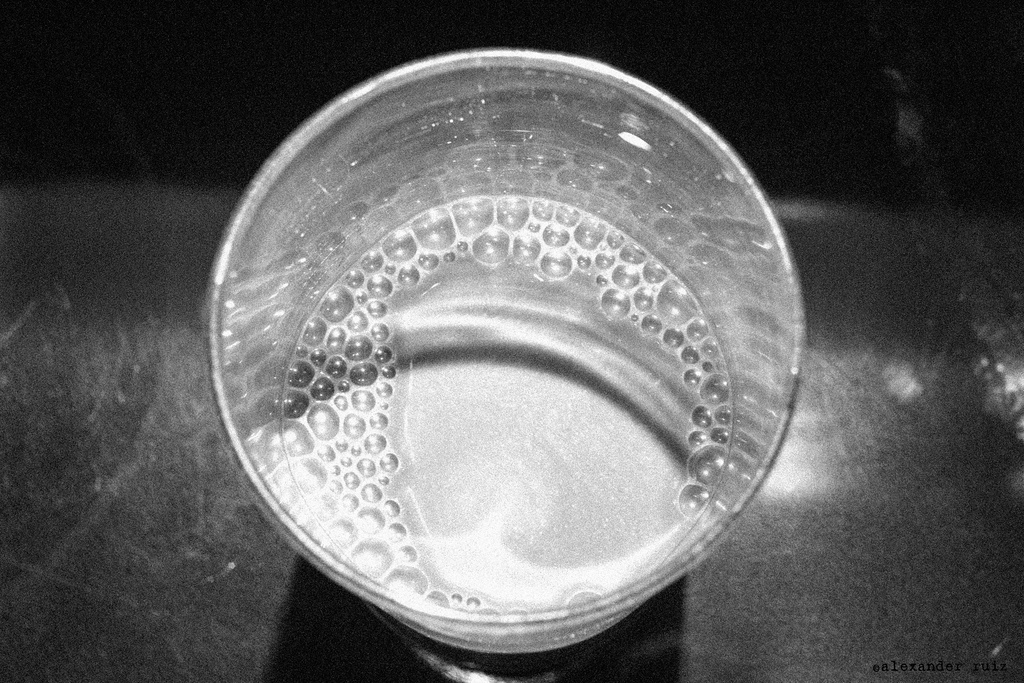glass of water: (217, 41, 804, 652)
